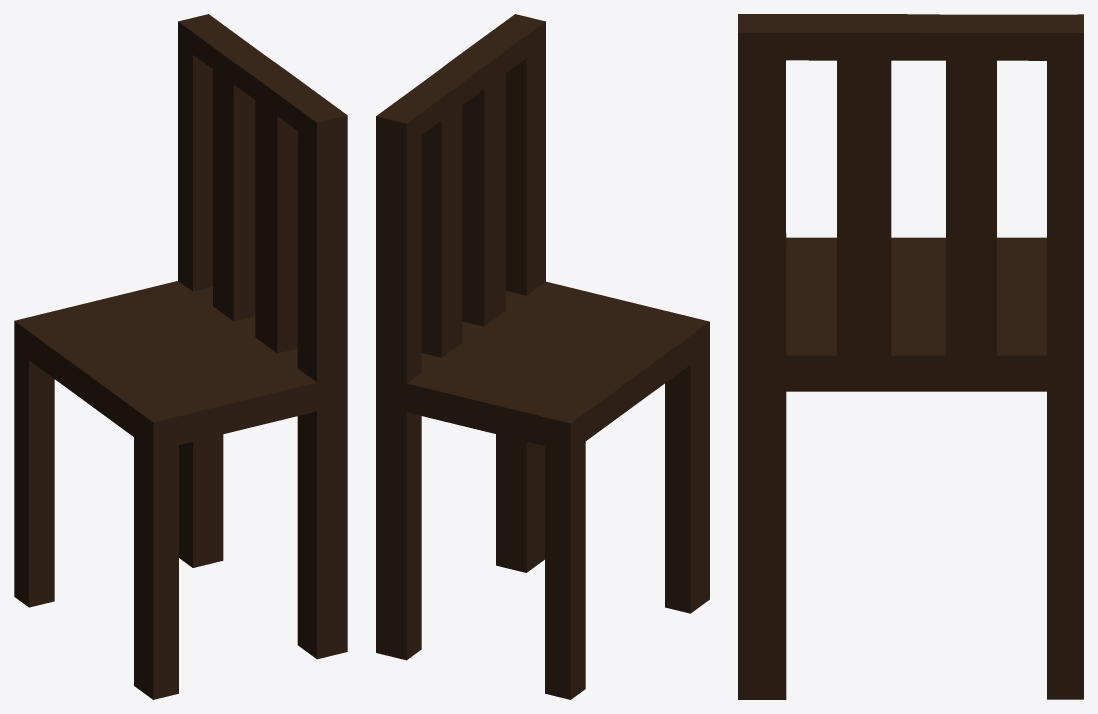
File: chair.fbx
3 renders of one model, left to right at view 1: azimuth 30°, elevation 25°; view 2: azimuth 150°, elevation 25°; view 3: azimuth 270°, elevation 25°, orthographic. The views are drawn at different scales.
Visible parts, largest first — view 1: Cube.001; view 2: Cube.001; view 3: Cube.001.
Boxes of the visible parts, left/top/right/bottom form: Cube.001: left=14, top=14, right=347, bottom=699; Cube.001: left=376, top=14, right=709, bottom=699; Cube.001: left=738, top=14, right=1083, bottom=699.
Bounding box in the file's own units: 75.86 × 200 × 93.94.
